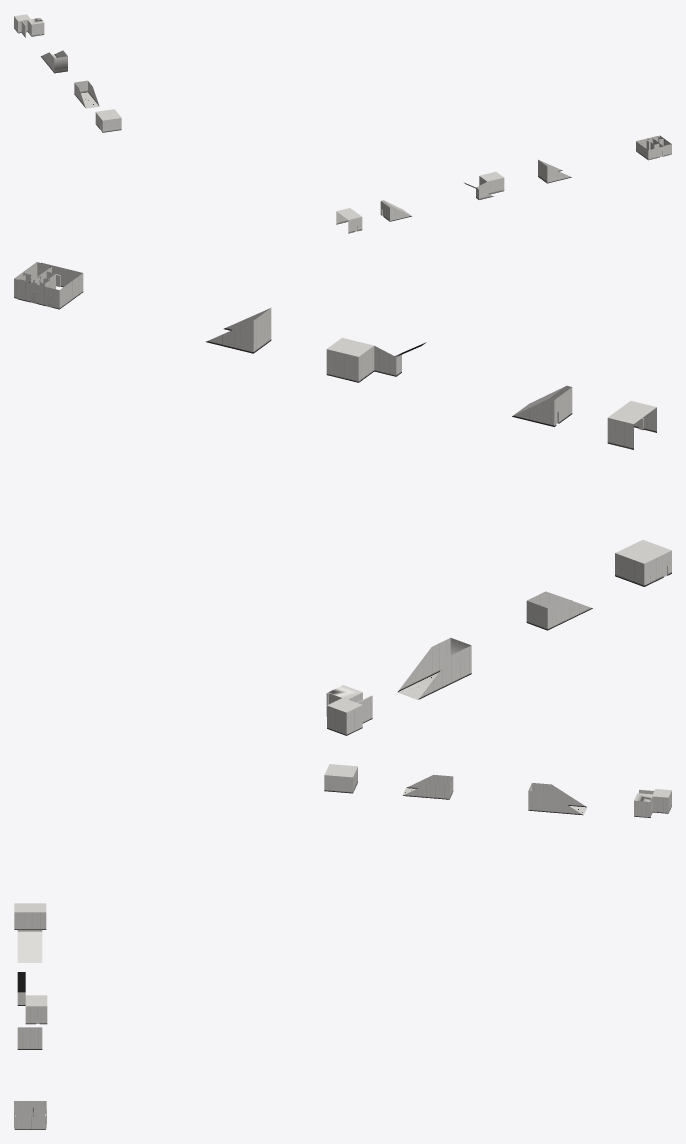
Rendered from dfzmWCDraco-opt.glb.
3 views of the same model, one above another, from view 1: azimuth 30°, elevation 25°; view 2: azimuth 150°, elevation 25°; view 3: azimuth 270°, elevation 25° (orthographic). The views are drawn at different scales.
Parts seen in each view (by area): view 1: line3-platform-other-box-001, line1-platform-other-box; view 2: line3-platform-other-box-001, line1-platform-other-box; view 3: line3-platform-other-box-001, line1-platform-other-box.
Part boxes in pixels (x1,y1,x2,y2): line3-platform-other-box-001: (336,135,671,233); line1-platform-other-box: (14,14,121,132); line3-platform-other-box-001: (14,262,656,449); line1-platform-other-box: (326,540,671,735); line3-platform-other-box-001: (14,903,47,1129); line1-platform-other-box: (324,764,671,817).
Size of the model in its own units: 162 by 19.54 by 155.
Materials: 3 (2 with a texture image).
